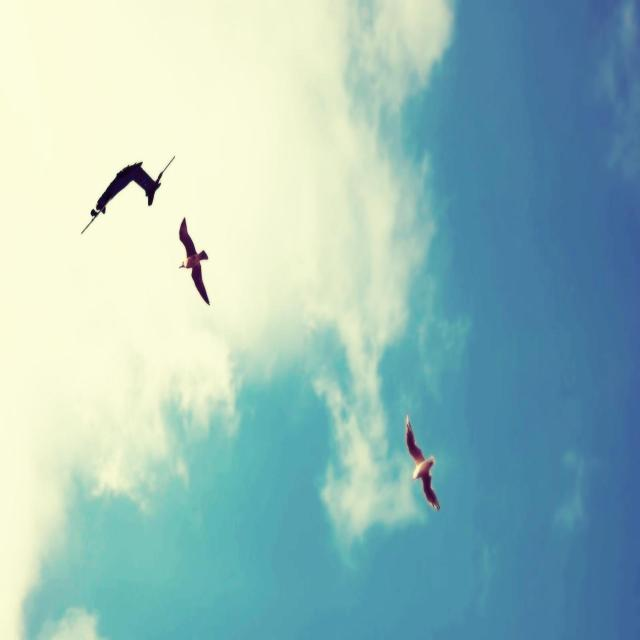airplane: (80, 153, 176, 234), (405, 413, 440, 511), (178, 216, 210, 306)
